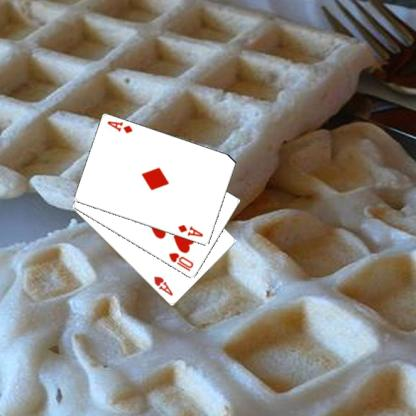10H: (168, 250, 196, 273)
AD: (106, 118, 136, 135), (177, 223, 206, 238)
AH: (153, 274, 176, 298)
